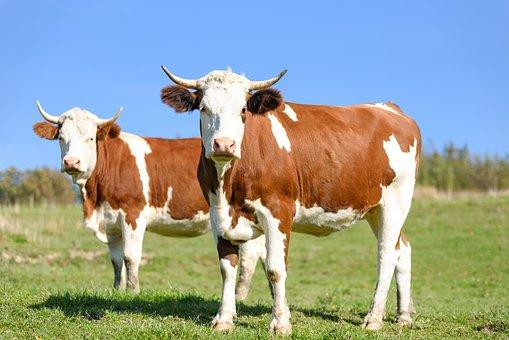muzzles: (201, 132, 245, 167), (57, 154, 88, 178)
